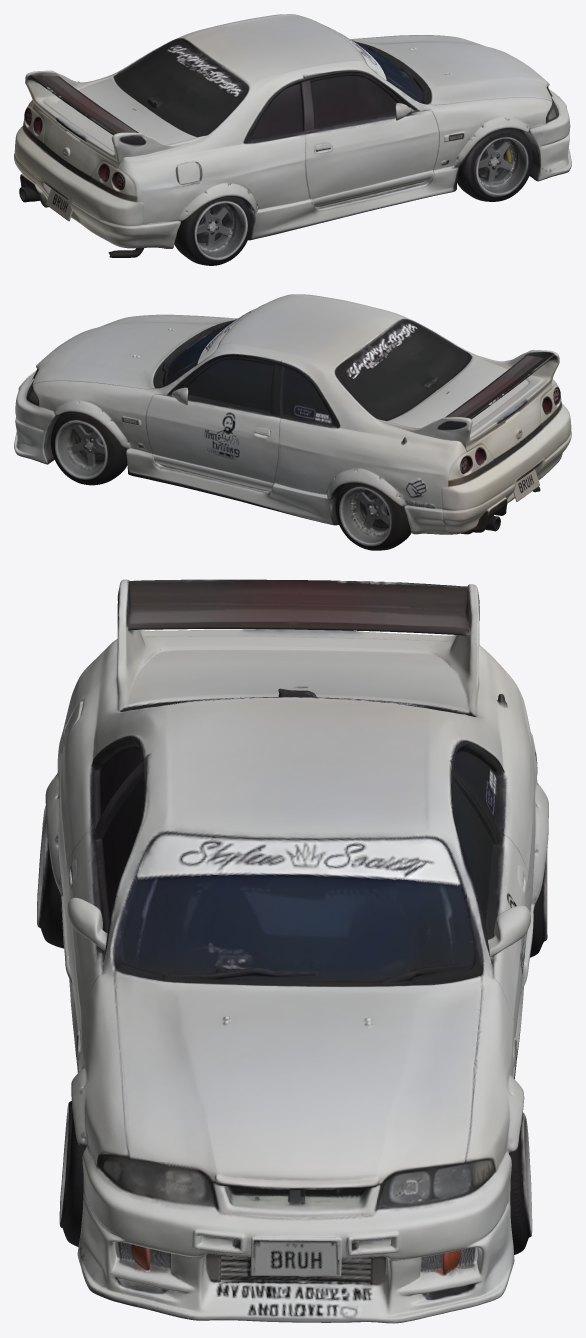
Rendered from candidate-a.glb.
The picture shows the model from 3 angles, top to bottom: view 1: azimuth 30°, elevation 25°; view 2: azimuth 150°, elevation 25°; view 3: azimuth 270°, elevation 25°; orthographic projection. The views are drawn at different scales.
Parts seen in each view (by area): view 1: tripo_node_c9764145-afb6-49c8-bfc0-be760f0050c6; view 2: tripo_node_c9764145-afb6-49c8-bfc0-be760f0050c6; view 3: tripo_node_c9764145-afb6-49c8-bfc0-be760f0050c6.
Boxes of the visible parts, left/top/right/bottom form: tripo_node_c9764145-afb6-49c8-bfc0-be760f0050c6: left=14, top=14, right=571, bottom=265; tripo_node_c9764145-afb6-49c8-bfc0-be760f0050c6: left=14, top=294, right=571, bottom=550; tripo_node_c9764145-afb6-49c8-bfc0-be760f0050c6: left=37, top=579, right=548, bottom=1323.
Bounding box in the file's own units: 1 × 0.322 × 0.4517.
Materials: 1 (1 with a texture image).
